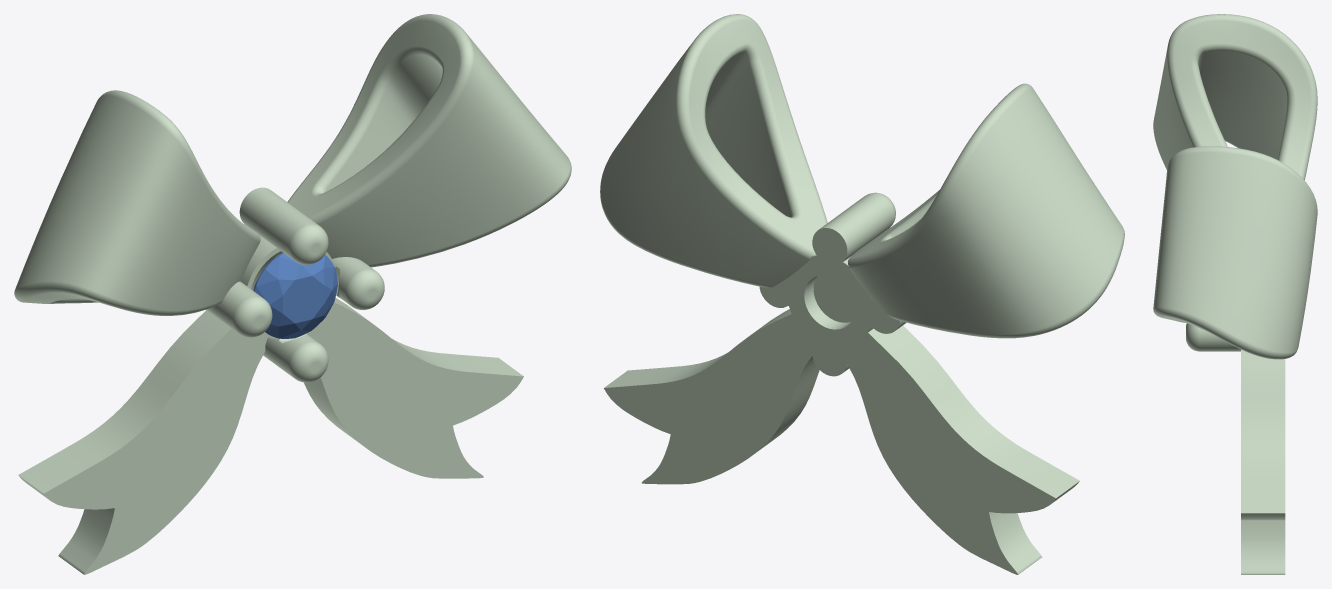
3 renders of one model, left to right at view 1: azimuth 30°, elevation 25°; view 2: azimuth 150°, elevation 25°; view 3: azimuth 270°, elevation 25°, orthographic. The views are drawn at different scales.
Visible parts, largest first — view 1: Brinco4 Laço Renderr.3dm, Gem; view 2: Brinco4 Laço Renderr.3dm; view 3: Brinco4 Laço Renderr.3dm.
Boxes of the visible parts, x1,y1,x2,y2 form: Brinco4 Laço Renderr.3dm: (14, 14, 571, 574); Gem: (253, 252, 337, 338); Brinco4 Laço Renderr.3dm: (600, 14, 1124, 574); Brinco4 Laço Renderr.3dm: (1153, 14, 1317, 574).
Size of the model in its own units: 2.96 by 2.53 by 0.9182.
